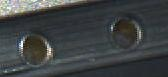joints: (16, 30, 54, 67), (105, 13, 144, 49)
